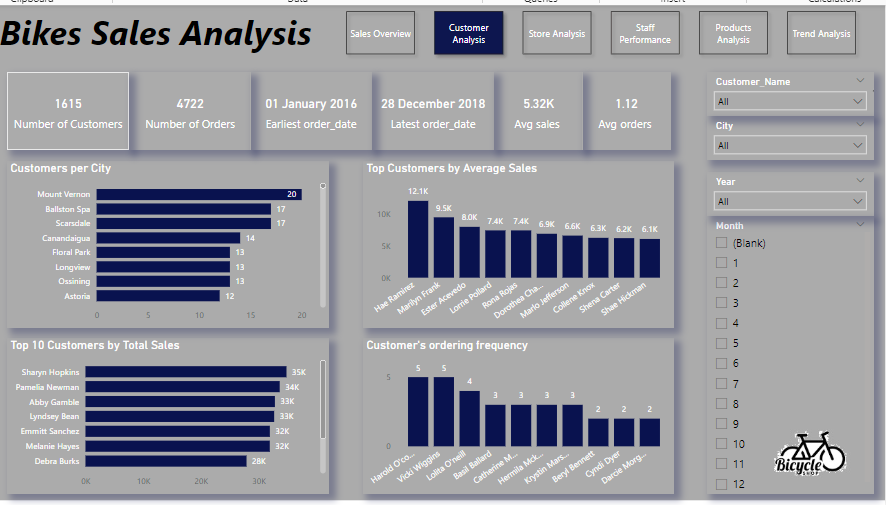

Layout of this report page (visuals, bound fields, positions):
{"tool":"powerbi","page":{"name":"Customer Analysis","canvas":[1280,720],"ordinal":1},"visuals":[{"type":"textbox","box":[0,0,1280,80],"z":0},{"type":"card","fields":{"Values":["customers.Avg.orders"]},"box":[844,96,128,112],"z":1000,"group":"g1"},{"type":"actionButton","box":[0,96,464,80],"z":1000},{"type":"slicer","fields":{"Values":["customers.Customer_Name"]},"box":[1024,96,240,64],"z":2000},{"type":"card","fields":{"Values":["customers.Avg sales per person"]},"box":[716.8,96,128,112],"z":3000,"group":"g1"},{"type":"barChart","title":"Customers per City","fields":{"Category":["customers.city"],"Y":["customers.customer_Name"]},"box":[16,224,464,240],"z":3000},{"type":"barChart","title":"Top 10 Customers by Total Sales","fields":{"Category":["customers.customer_Name"],"Y":["order_items.Revenue"]},"box":[16,480,464,224],"z":4000},{"type":"card","fields":{"Values":["orders.customer_id"]},"box":[16,96,176,112],"z":5000,"group":"g1"},{"type":"columnChart","title":"Top  Customers by Average Sales ","fields":{"Category":["customers.customer_Name"],"Y":["order_items.Revenue"]},"box":[528,224,448,240],"z":5000},{"type":"columnChart","title":"Customer''s ordering frequency","fields":{"Category":["customers.customer_Name"],"Y":["order_items.order_id"]},"box":[528,480,448,224],"z":6000},{"type":"card","fields":{"Values":["orders.order_date"]},"box":[366.4,96,176,112],"z":7000,"group":"g1"},{"type":"slicer","fields":{"Values":["orders.Month"]},"box":[1024,304,240,400],"z":7000},{"type":"slicer","fields":{"Values":["orders.Year"]},"box":[1024,240,240,64],"z":8000},{"type":"card","fields":{"Values":["orders.order_date"]},"box":[541.6,96,176,112],"z":9000,"group":"g1"},{"type":"slicer","fields":{"Values":["stores.city"]},"box":[1024,160,240,64],"z":9000},{"type":"group","id":"g1","title":"Group 1","box":[16,96,960,112],"z":10000},{"type":"card","fields":{"Values":["order_items.order_id"]},"box":[192,96,176,112],"z":11000,"group":"g1"},{"type":"pageNavigator","box":[496,0,752,80],"z":11000}]}

Visuals, with their boxes on the page's 1280x720 design canvas (x1, y1, x2, y2). These are canvas units, not pixel positions in the 886x505 screenshot, which may show the page scaled, cropped or inside an application window:
textbox: {"x1": 0, "y1": 0, "x2": 1280, "y2": 80}
card - customers.Avg.orders: {"x1": 844, "y1": 96, "x2": 972, "y2": 208}
actionButton: {"x1": 0, "y1": 96, "x2": 464, "y2": 176}
slicer - customers.Customer_Name: {"x1": 1024, "y1": 96, "x2": 1264, "y2": 160}
card - customers.Avg sales per person: {"x1": 717, "y1": 96, "x2": 845, "y2": 208}
"Customers per City" barChart: {"x1": 16, "y1": 224, "x2": 480, "y2": 464}
"Top 10 Customers by Total Sales" barChart: {"x1": 16, "y1": 480, "x2": 480, "y2": 704}
card - orders.customer_id: {"x1": 16, "y1": 96, "x2": 192, "y2": 208}
"Top  Customers by Average Sales " columnChart: {"x1": 528, "y1": 224, "x2": 976, "y2": 464}
"Customer''s ordering frequency" columnChart: {"x1": 528, "y1": 480, "x2": 976, "y2": 704}
card - orders.order_date: {"x1": 366, "y1": 96, "x2": 542, "y2": 208}
slicer - orders.Month: {"x1": 1024, "y1": 304, "x2": 1264, "y2": 704}
slicer - orders.Year: {"x1": 1024, "y1": 240, "x2": 1264, "y2": 304}
card - orders.order_date: {"x1": 542, "y1": 96, "x2": 718, "y2": 208}
slicer - stores.city: {"x1": 1024, "y1": 160, "x2": 1264, "y2": 224}
"Group 1" group: {"x1": 16, "y1": 96, "x2": 976, "y2": 208}
card - order_items.order_id: {"x1": 192, "y1": 96, "x2": 368, "y2": 208}
pageNavigator: {"x1": 496, "y1": 0, "x2": 1248, "y2": 80}
